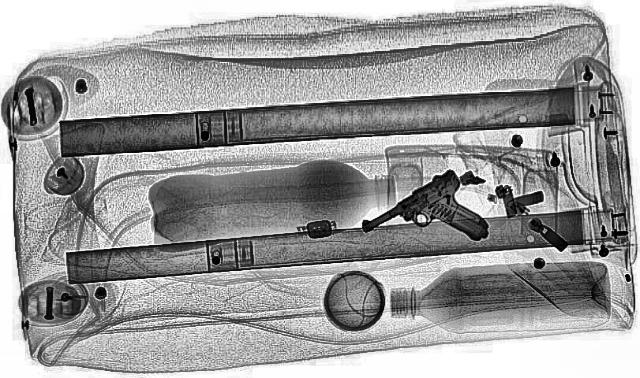Gun: (354, 164, 510, 244)
